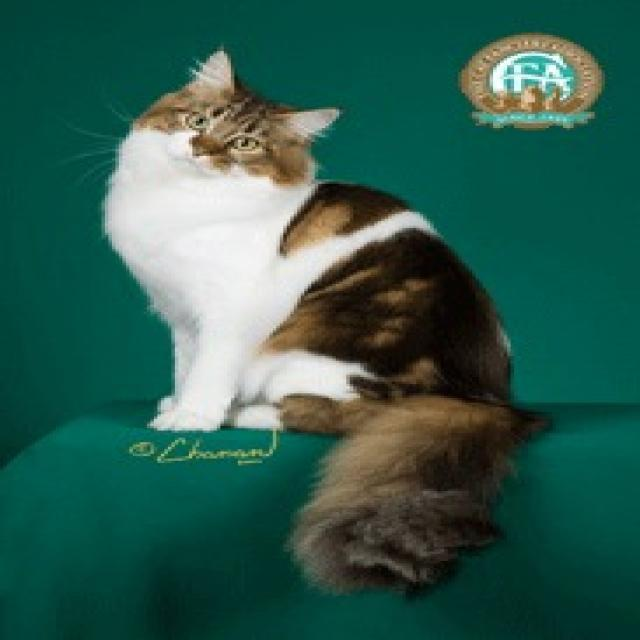Maine_Coon: (129, 43, 348, 198)
